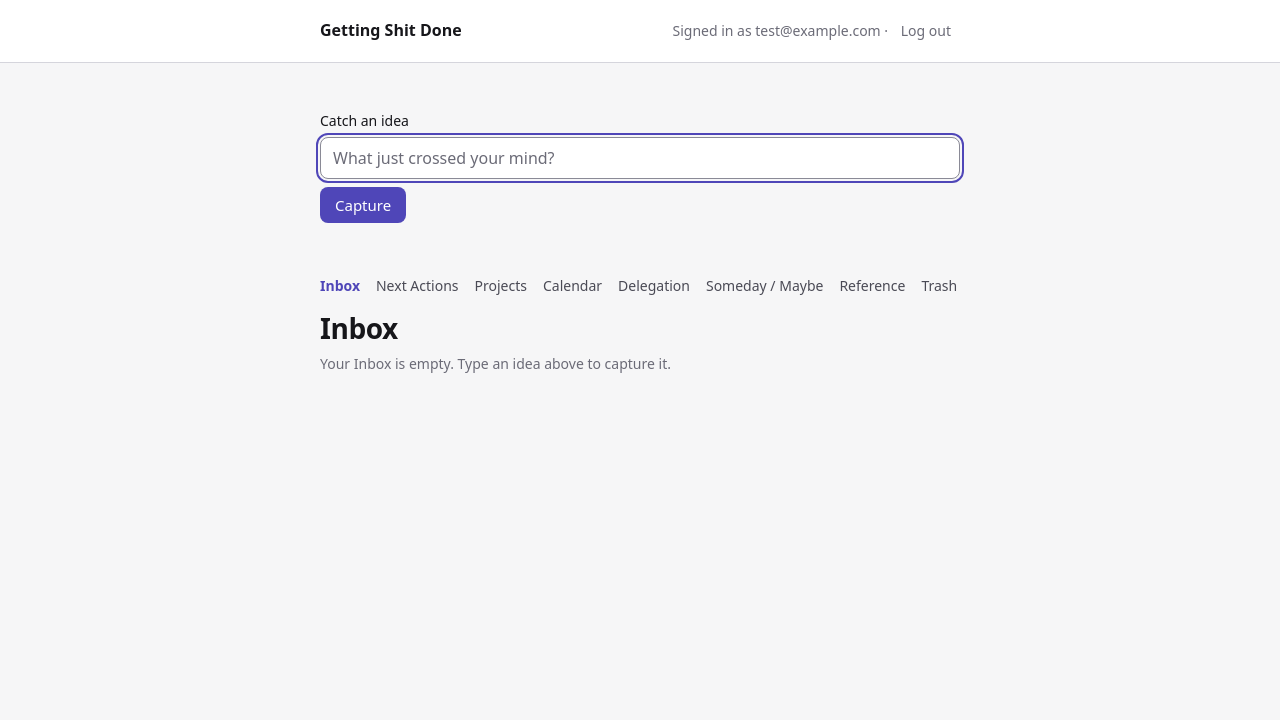
Test: a 401 during capture › explains the expired session instead of bouncing the user silently
In the field labelled "Catch an idea": (640, 158) top-left (320, 137), bottom-right (960, 179), type "an idea mid-session"
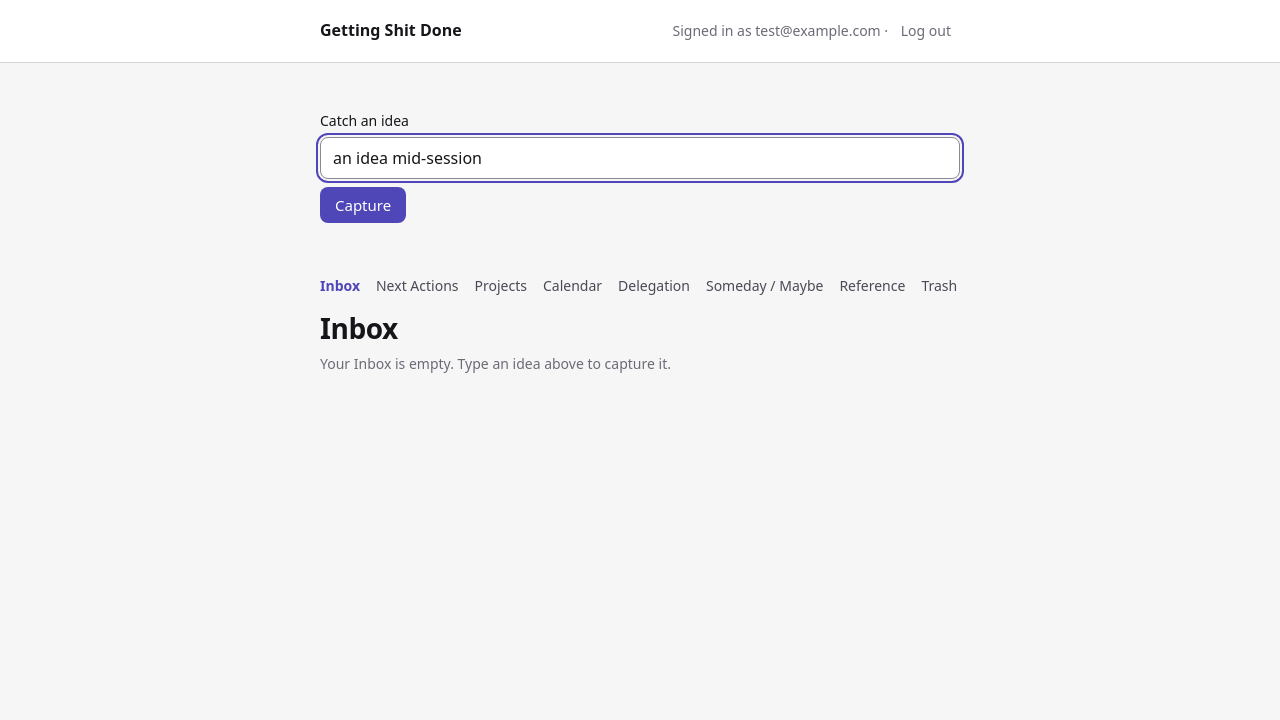
Click the button "Capture": (363, 205) top-left (320, 187), bottom-right (406, 223)
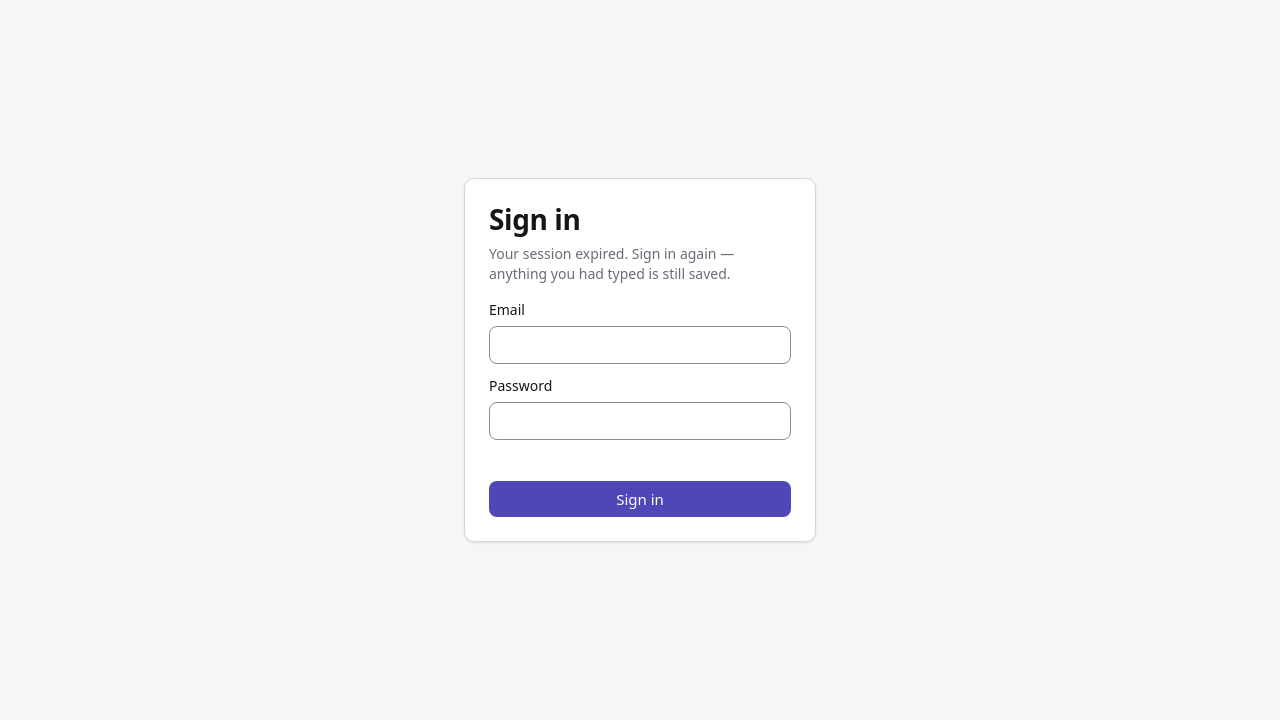
Result: the heading "Sign in" is shown at top-left (489, 200), bottom-right (580, 238)
Result: the text "Your session expired. Sign in again — anything you had typed is still saved." is shown at top-left (489, 244), bottom-right (734, 283)
